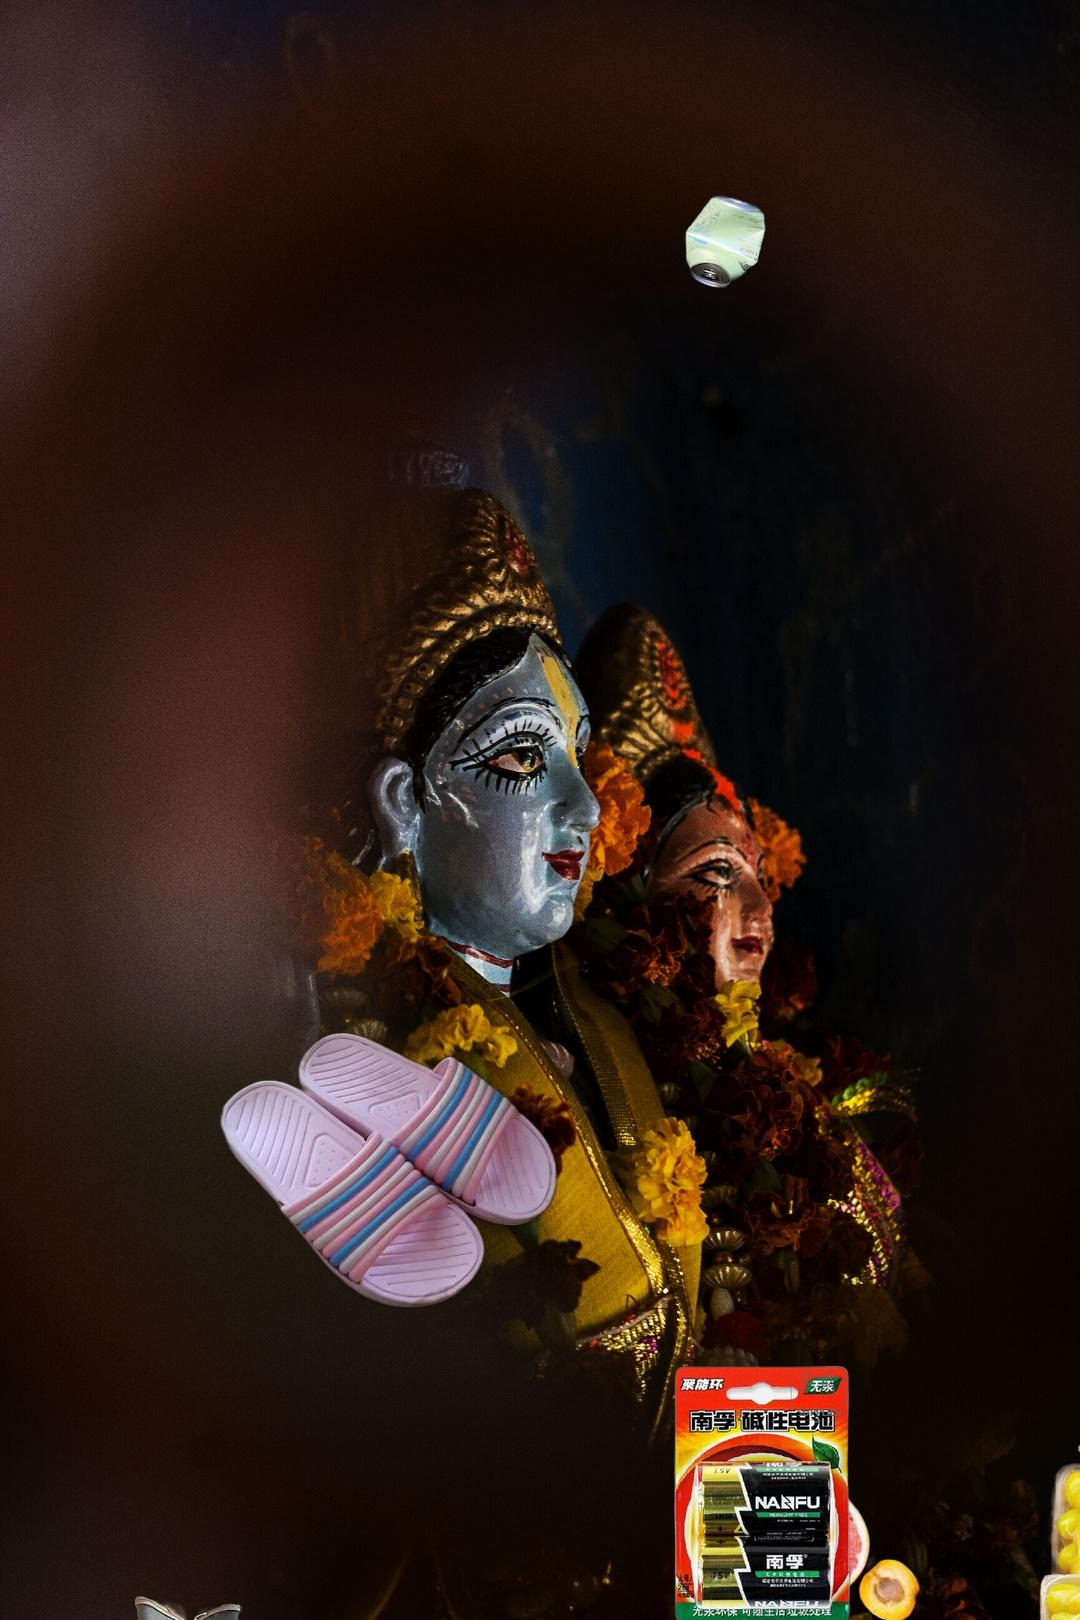battery: (671, 1362, 853, 1620)
biological: (745, 1484, 931, 1620), (1023, 1362, 1080, 1620)
metal-cans: (681, 189, 771, 294)
shoes: (213, 1029, 563, 1311), (87, 1585, 274, 1620)
